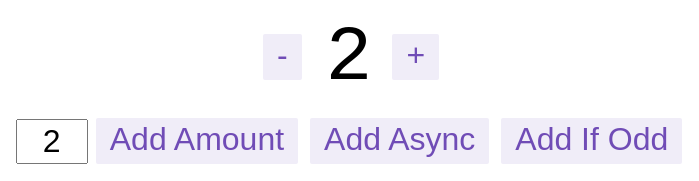
Test: <Counter/> › Decrement by 1, if the button decrement was clicked
Click the button "-": (282, 57) [263,34,302,80]
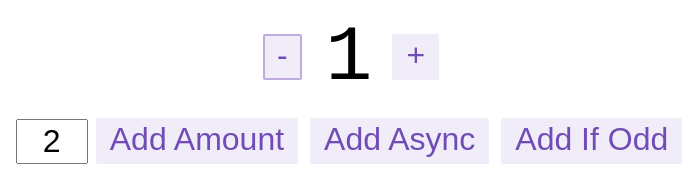
Click the button "-": (282, 57) [263,34,302,80]
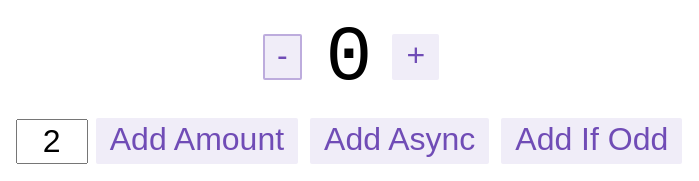
expect the text "0" is shown: met, box [326,14,372,102]
